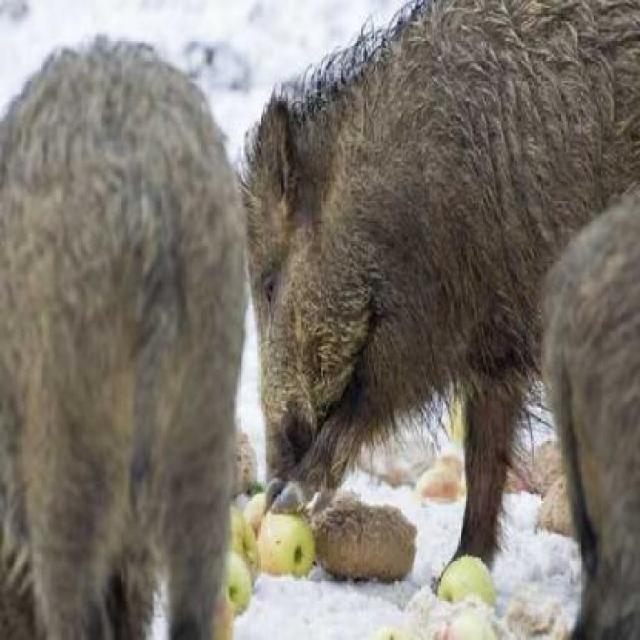pig: (246, 0, 639, 520)
